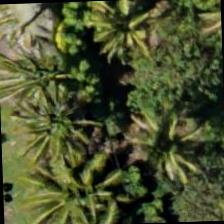Kelapa_Sawit: (12, 88, 106, 182), (121, 102, 214, 194), (0, 31, 90, 125), (73, 0, 166, 75), (26, 152, 120, 223)
